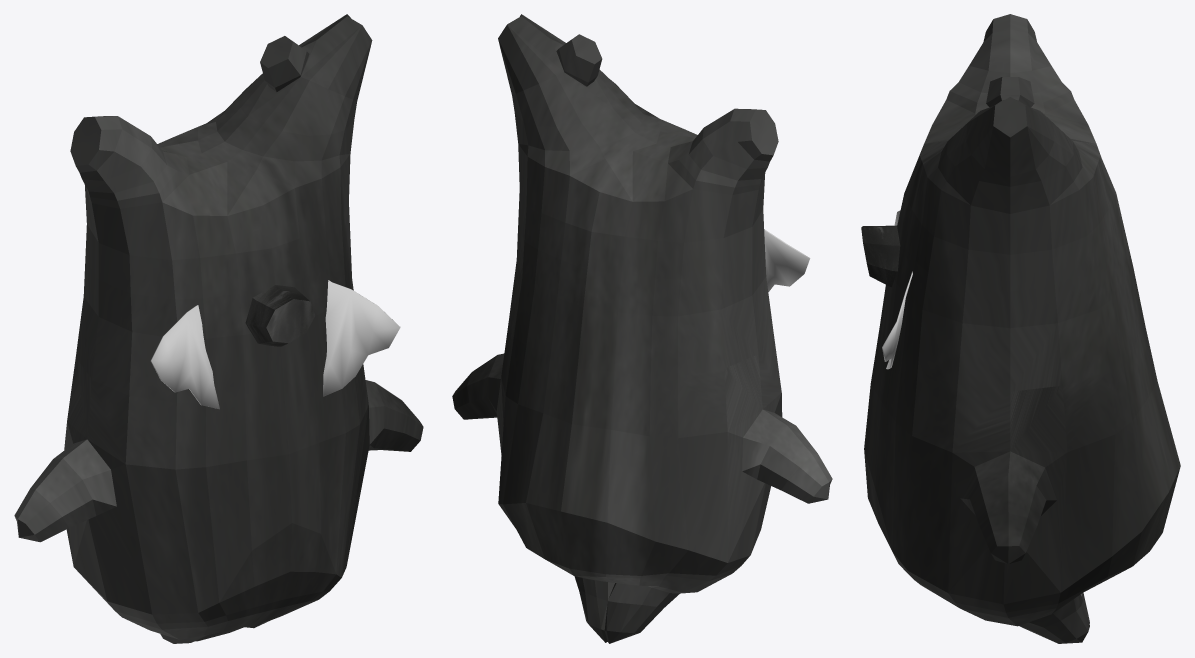
File: frame_0006.obj
3 views of the same model, side by side, from view 1: azimuth 30°, elevation 25°; view 2: azimuth 150°, elevation 25°; view 3: azimuth 270°, elevation 25° (orthographic). The views are drawn at different scales.
Parts seen in each view (by area): view 1: korok, leaf, nose; view 2: korok, leaf; view 3: korok, nose, leaf.
Boxes of the visible parts, x1,y1,x2,y2 form: korok: (14, 14, 423, 643); leaf: (150, 280, 400, 409); nose: (245, 285, 315, 346); korok: (452, 14, 832, 643); leaf: (764, 229, 810, 291); korok: (864, 14, 1180, 643); nose: (861, 225, 900, 287); leaf: (882, 210, 912, 369).
Size of the model in its own units: 1.68 by 2.47 by 1.18.
